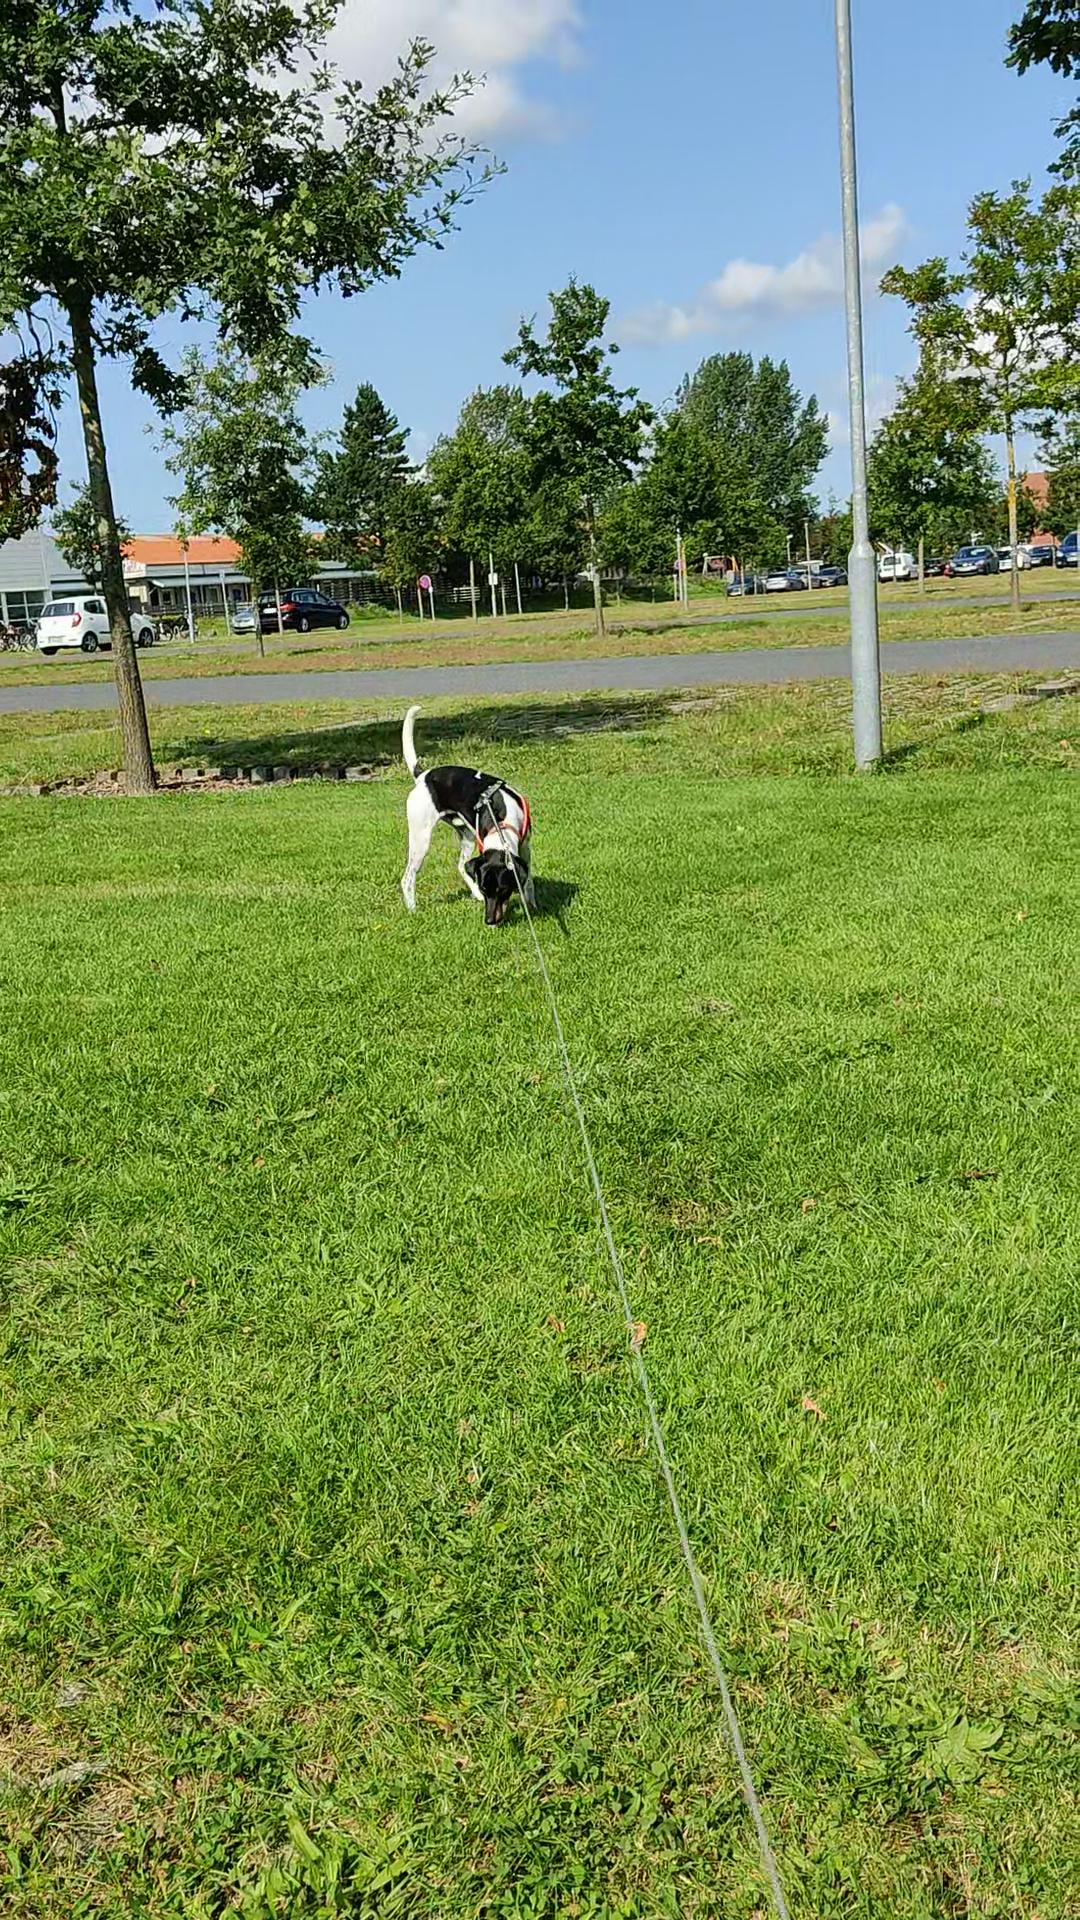Dog: (400, 702, 541, 924)
